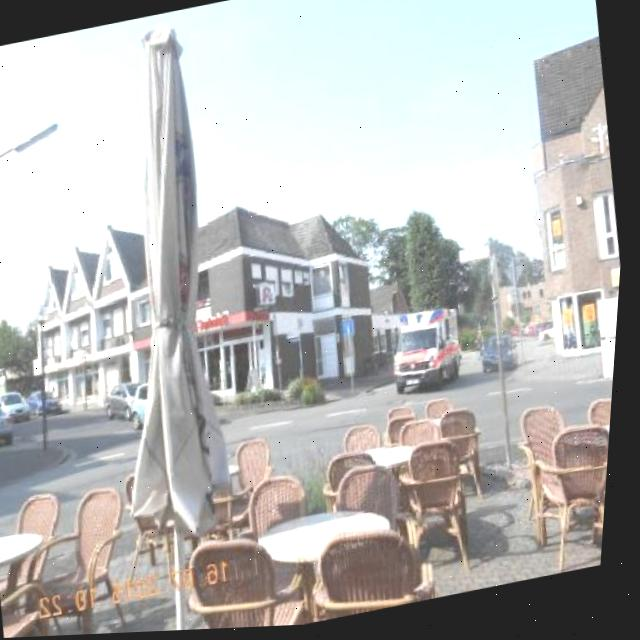emergency: (388, 306, 476, 402)
